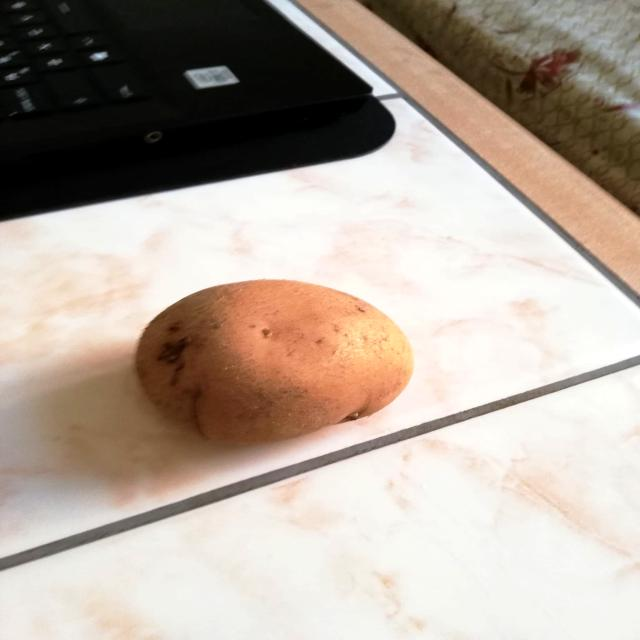potato: (128, 274, 424, 450)
